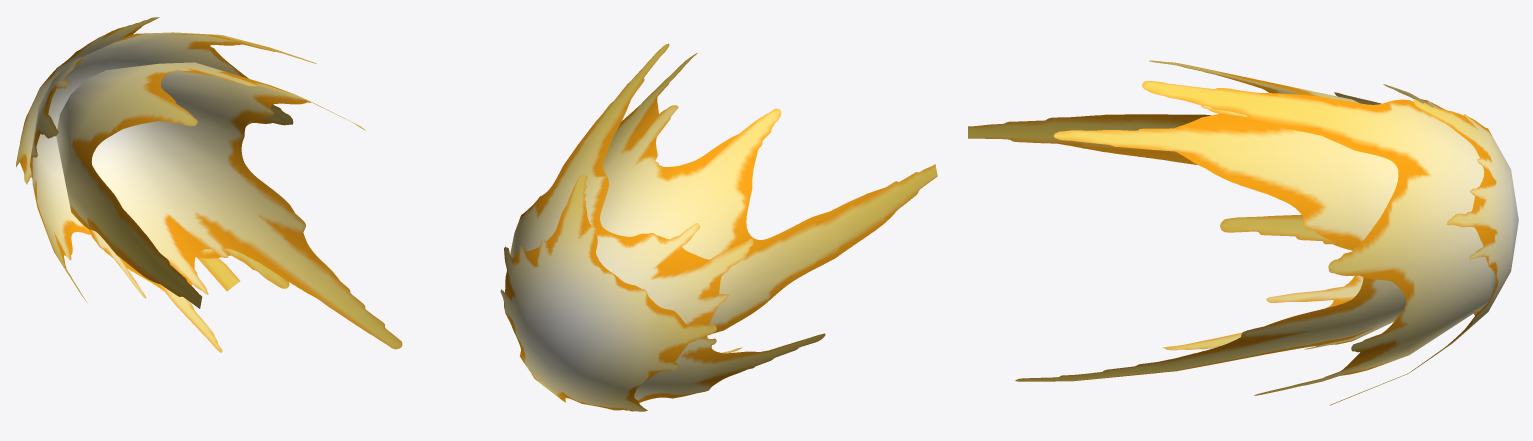
The model's file is ef-common-w2-skill0085-0001.FBX.
3 renders of one model, left to right at view 1: azimuth 30°, elevation 25°; view 2: azimuth 150°, elevation 25°; view 3: azimuth 270°, elevation 25°, orthographic. The views are drawn at different scales.
Visible parts, largest first — view 1: ef-common-w2-skill0085-0001; view 2: ef-common-w2-skill0085-0001; view 3: ef-common-w2-skill0085-0001.
Boxes of the visible parts, box(x1,y1,x2,y2) form: ef-common-w2-skill0085-0001: box(16, 17, 402, 352); ef-common-w2-skill0085-0001: box(500, 43, 937, 411); ef-common-w2-skill0085-0001: box(968, 60, 1518, 405).
Size of the model in its own units: 94.11 by 94.11 by 125.
Materials: 1 (1 with a texture image).
